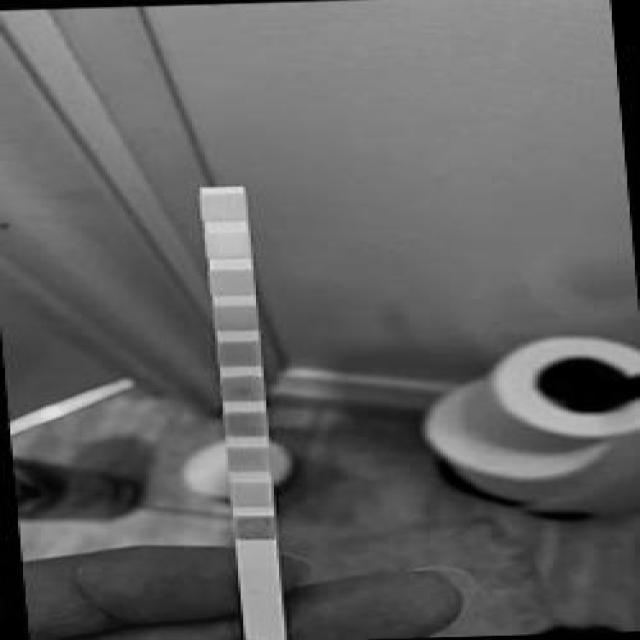Bilirubin: (232, 484, 270, 506)
Blood: (223, 377, 262, 401)
Glucose: (235, 518, 275, 540)
Ketone: (228, 448, 268, 471)
Leukocytes: (202, 194, 248, 220)
Nitrite: (207, 233, 249, 258)
Protein: (215, 308, 256, 331)
SpGravity: (226, 413, 264, 437)
Urobilinogen: (212, 272, 253, 295)
background: (0, 0, 640, 640)
pH: (219, 343, 259, 366)
strip: (200, 187, 285, 639)
